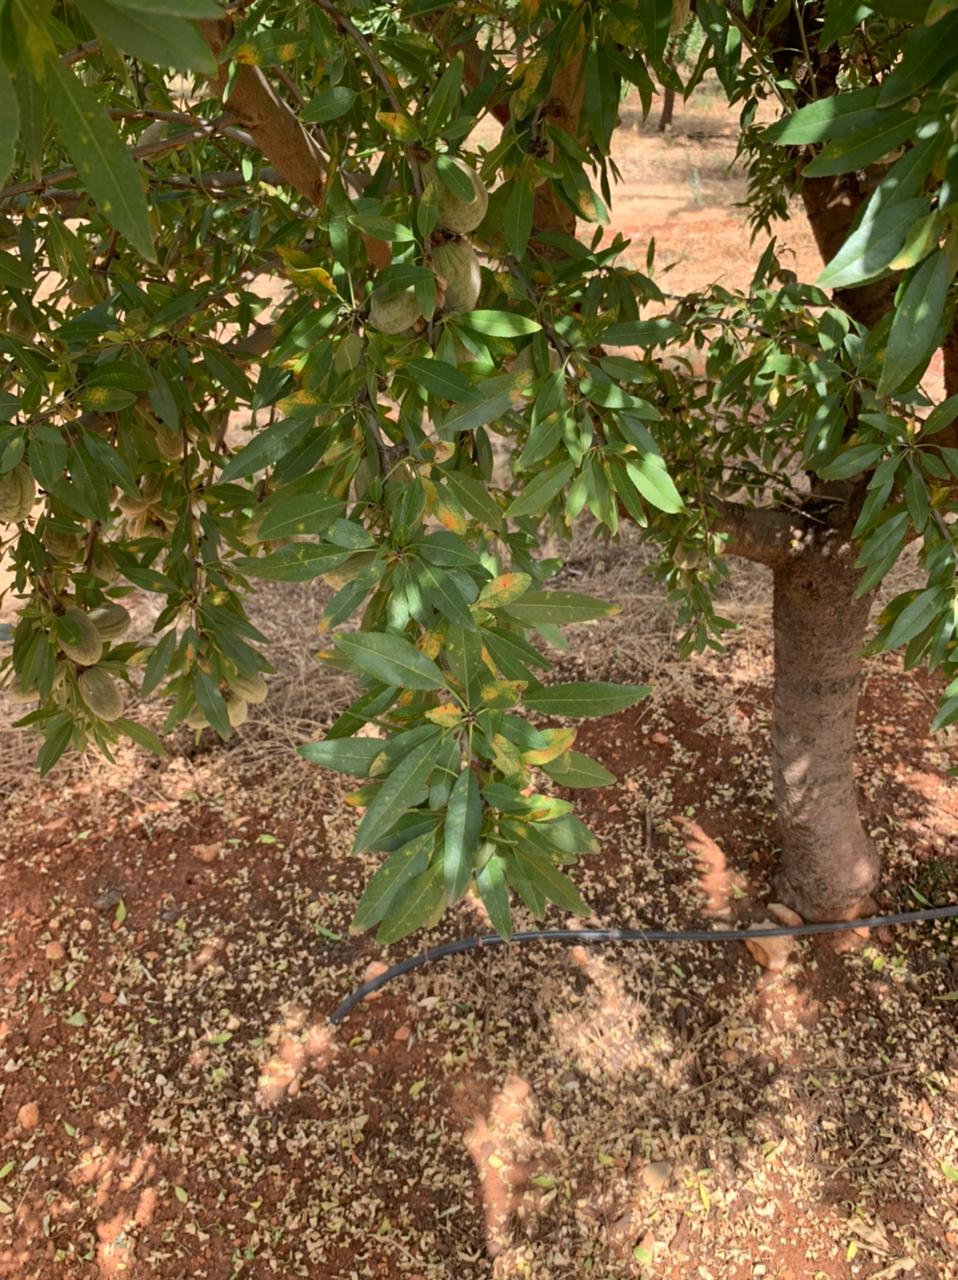polystigma: (345, 833, 436, 935), (328, 625, 451, 691), (374, 867, 441, 953), (416, 469, 468, 537), (555, 142, 597, 225), (516, 723, 581, 760), (474, 569, 536, 607), (289, 261, 340, 298)
